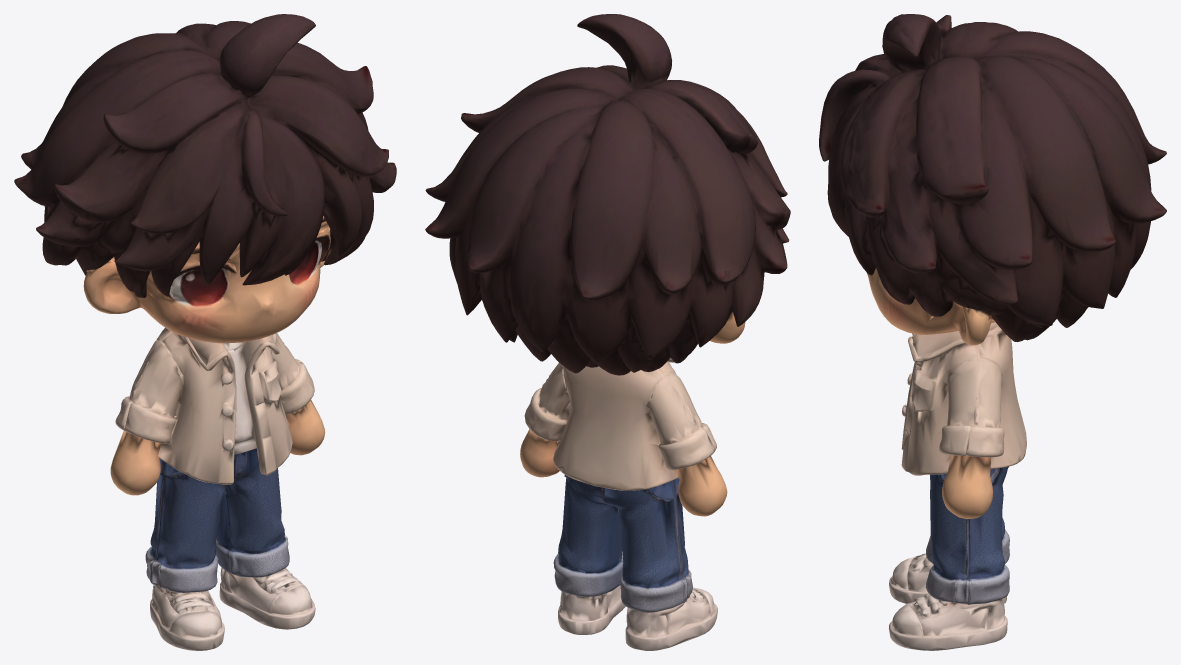
Rendered from tripo-male-mobile-v1.glb.
3 views of the same model, side by side, from view 1: azimuth 30°, elevation 25°; view 2: azimuth 150°, elevation 25°; view 3: azimuth 270°, elevation 25° (orthographic). The views are drawn at different scales.
Visible parts, largest first — view 1: tripo_node_9c58ce80-7cec-46f9-b829-658e2702e8e5; view 2: tripo_node_9c58ce80-7cec-46f9-b829-658e2702e8e5; view 3: tripo_node_9c58ce80-7cec-46f9-b829-658e2702e8e5.
Part boxes in pixels (x1,y1,x2,y2): tripo_node_9c58ce80-7cec-46f9-b829-658e2702e8e5: (14,14,396,650); tripo_node_9c58ce80-7cec-46f9-b829-658e2702e8e5: (425,14,790,650); tripo_node_9c58ce80-7cec-46f9-b829-658e2702e8e5: (819,14,1166,650).
Size of the model in its own units: 0.591 by 0.9796 by 0.5031.
Materials: 1 (1 with a texture image).
